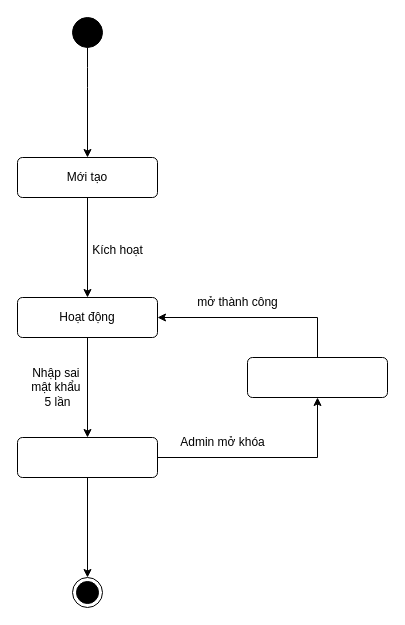
The diagram is 405 pixels wide and 625 high, and some of its shapes have lost their labels. Each missing label, with the centre of its shape:
Bị khóa: the point at 87,457
Kích hoạt lại: the point at 317,377
